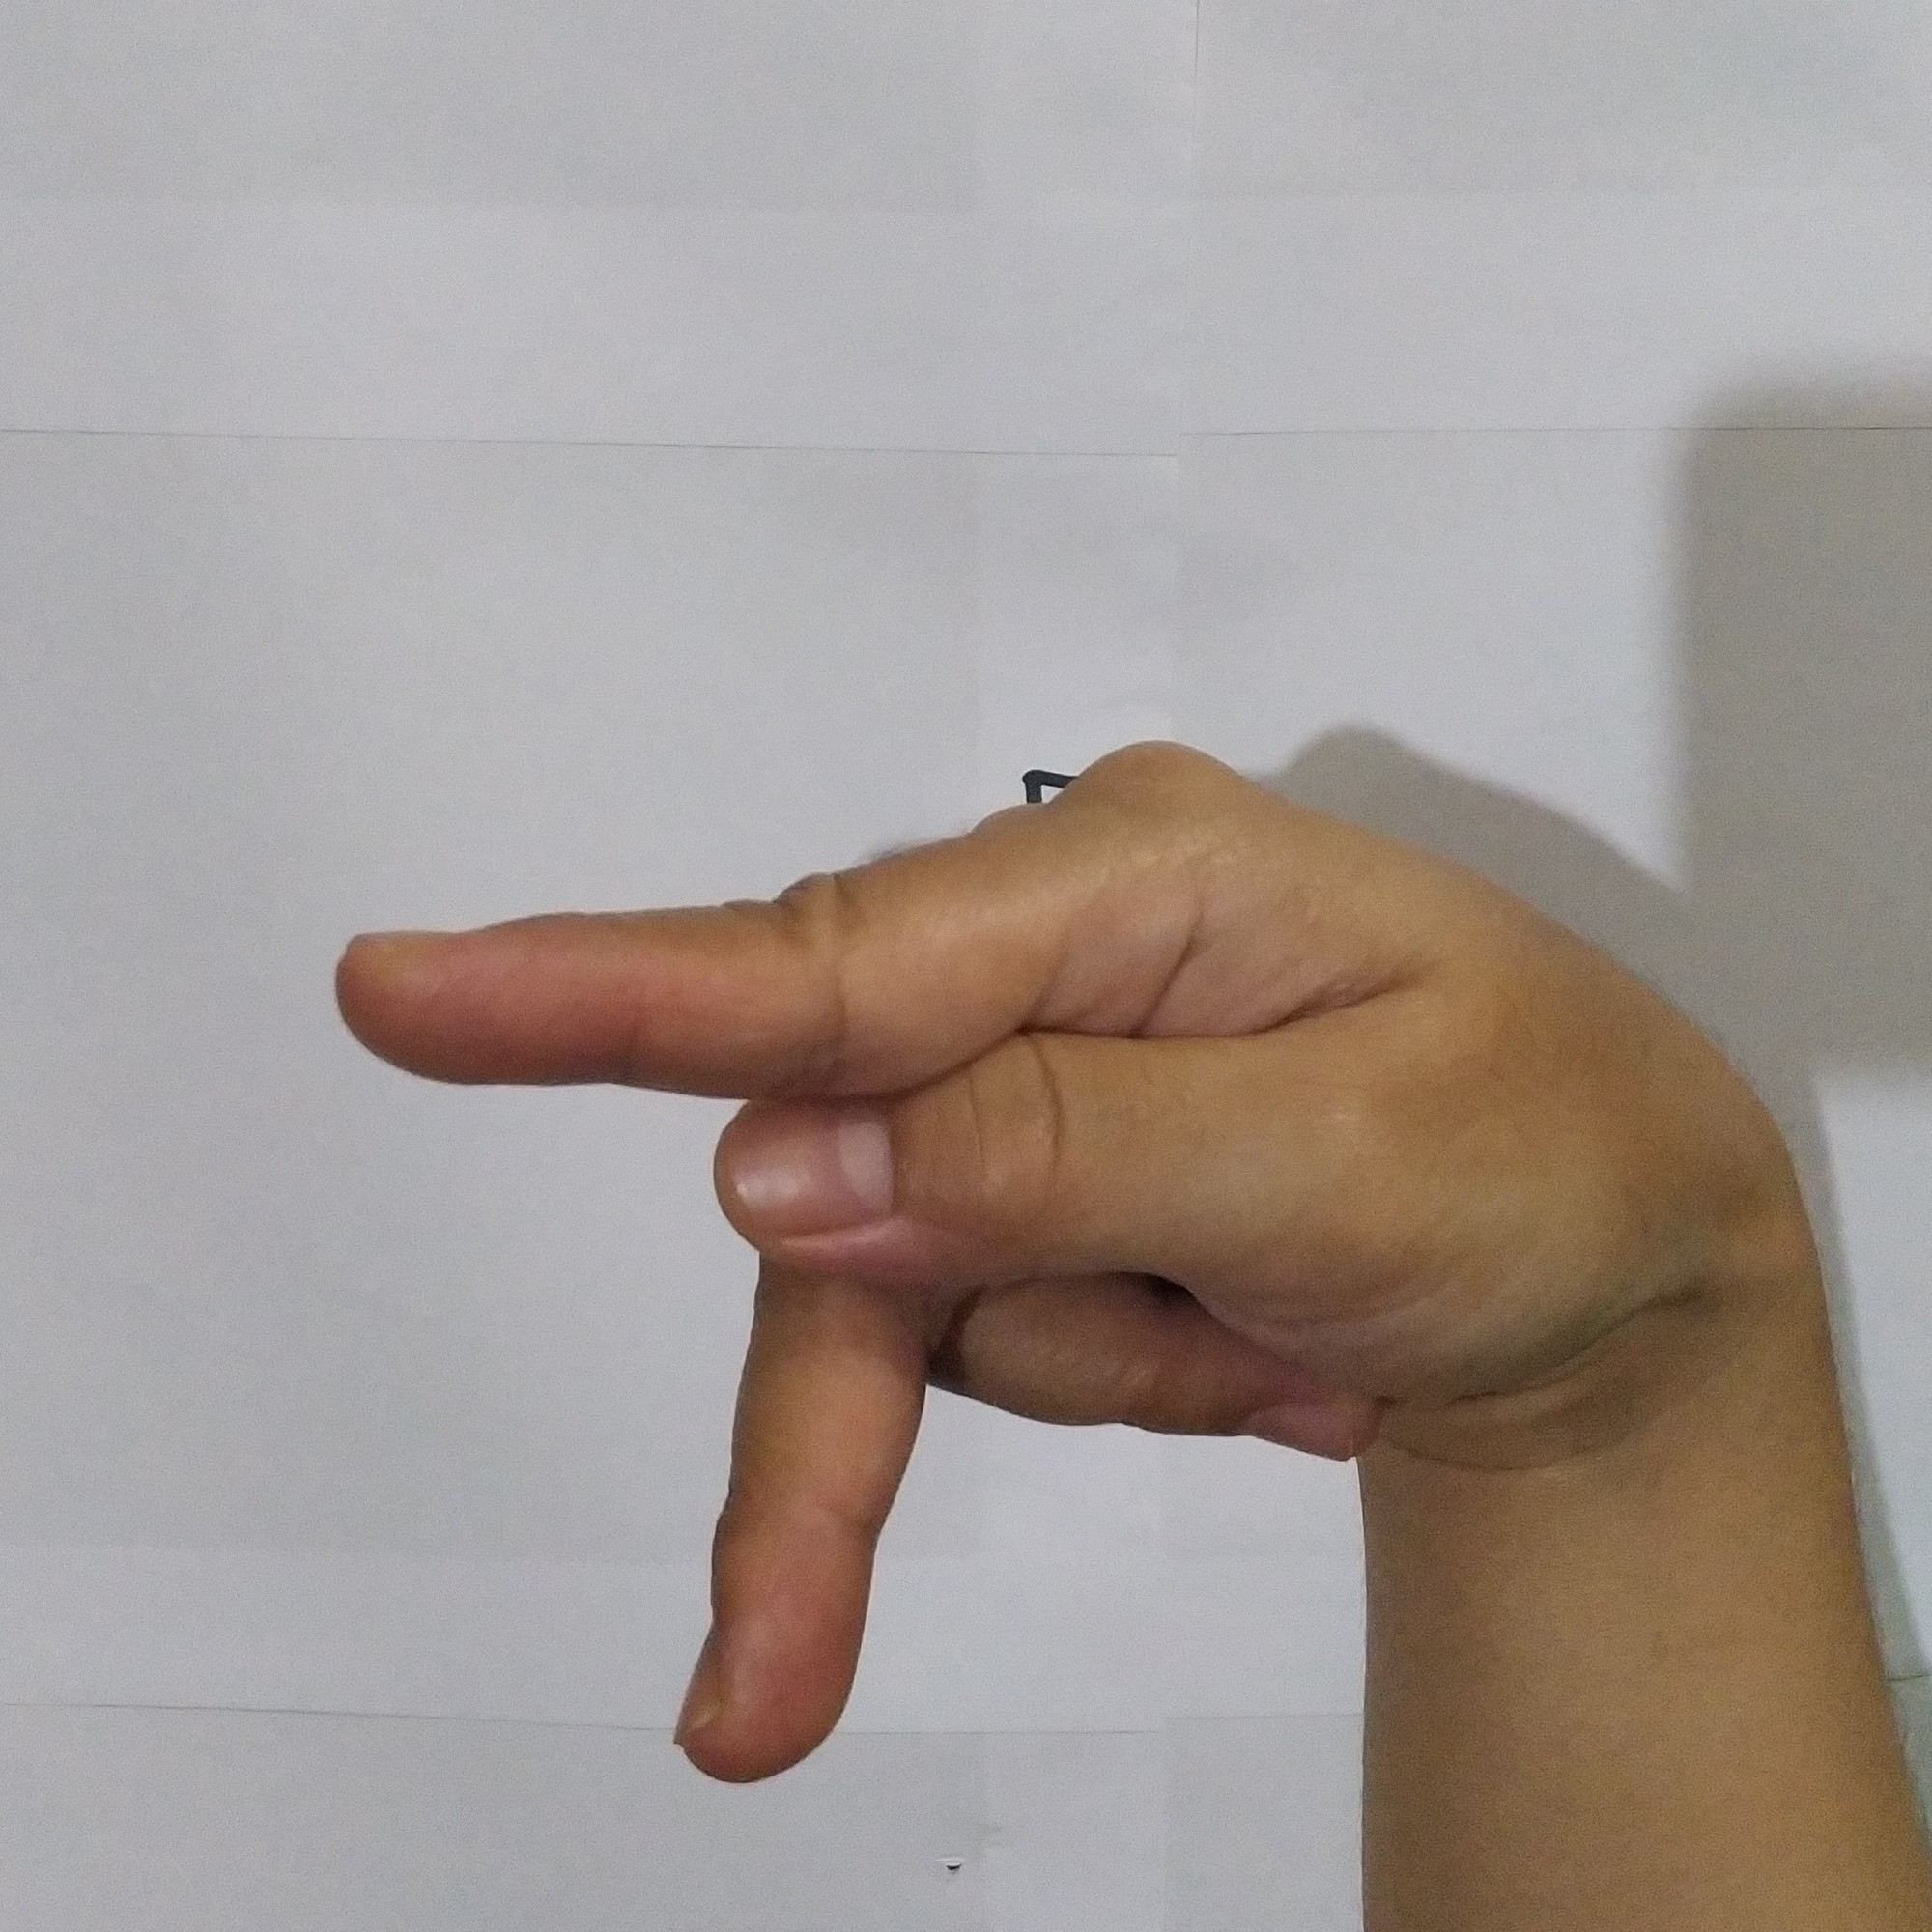P: (297, 720, 1907, 1805)
